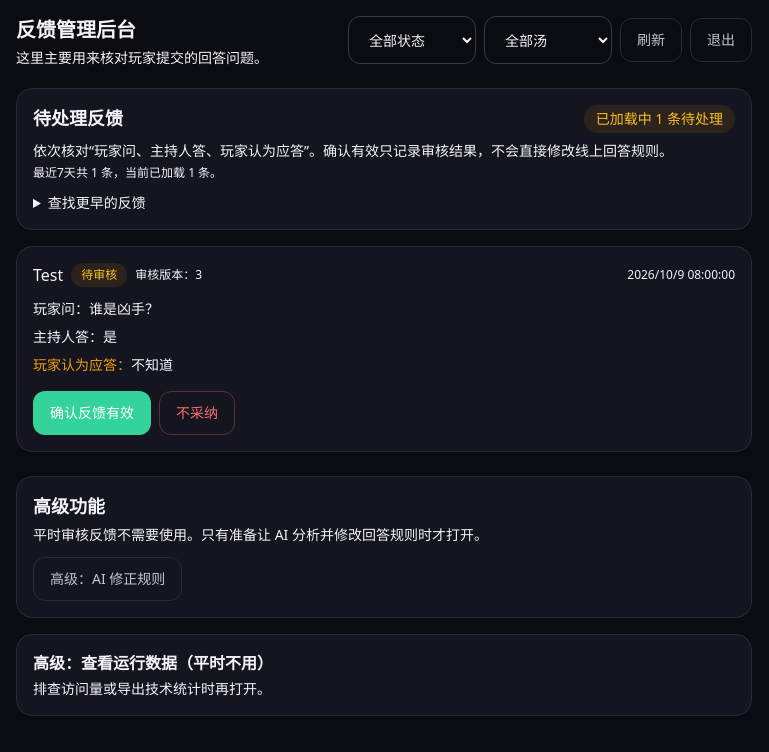
Scenario: stale 409 keeps the current row and asks for refresh instead of local approval
The image size is (769, 752).
Click the button "确认反馈有效".
click(92, 413)  # box [33,391,151,435]
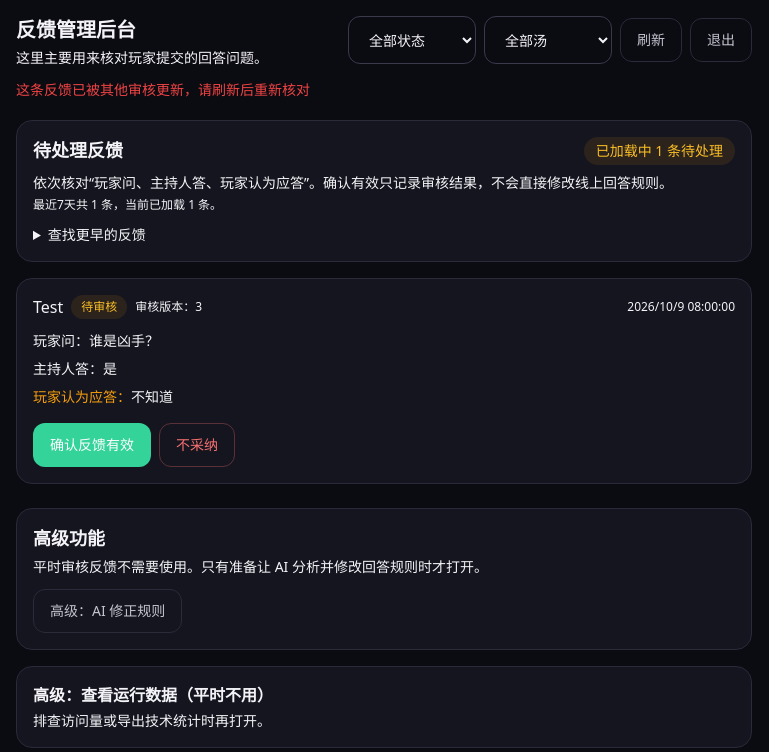
Expected: the button "确认反馈有效" is shown, [33,423,151,467]
Expected: the text "这条反馈已被其他审核更新，请刷新后重新核对" is shown, [16,80,310,99]
